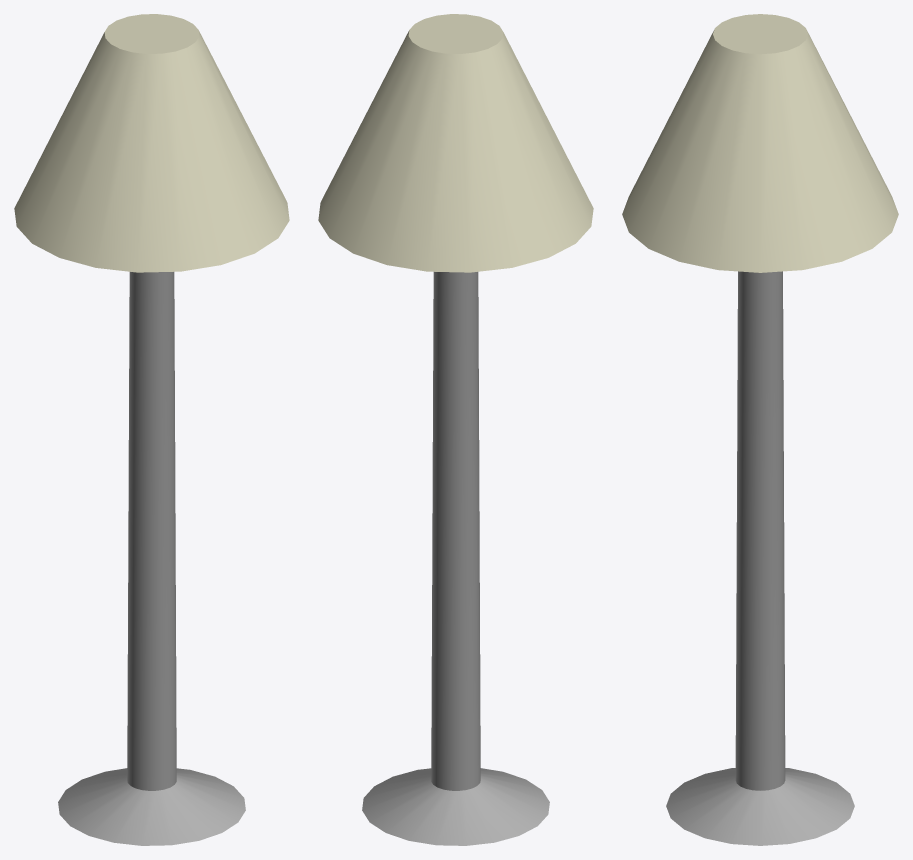
File: Lamp.fbx
The picture shows the model from 3 angles, left to right: view 1: azimuth 30°, elevation 25°; view 2: azimuth 150°, elevation 25°; view 3: azimuth 270°, elevation 25°; orthographic projection.
Parts seen in each view (by area): view 1: pCylinder5; view 2: pCylinder5; view 3: pCylinder5.
Part boxes in pixels (x1,y1,x2,y2): pCylinder5: [14, 14, 289, 845]; pCylinder5: [318, 14, 593, 845]; pCylinder5: [622, 14, 898, 845].
Size of the model in its own units: 38.78 by 119 by 38.78.
